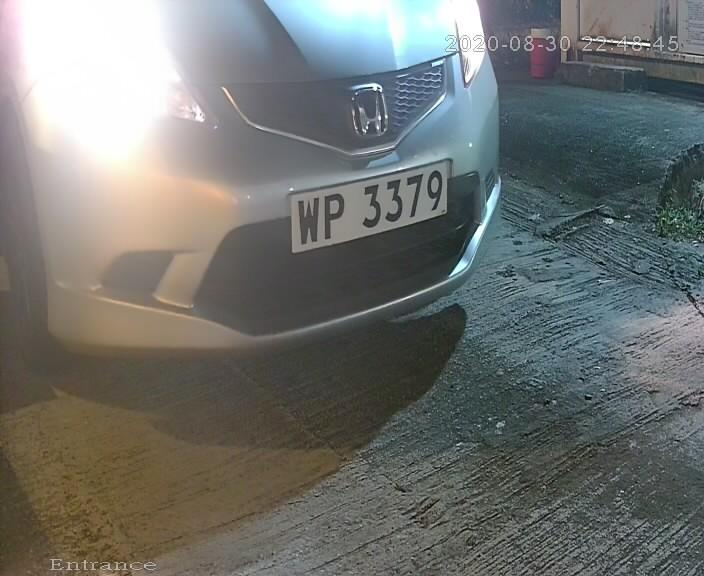License Plate: (287, 152, 444, 253)
